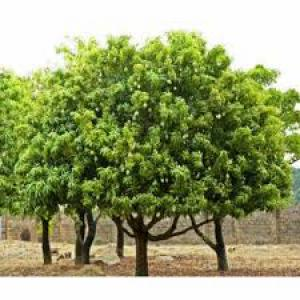Tree: (31, 28, 288, 272)
